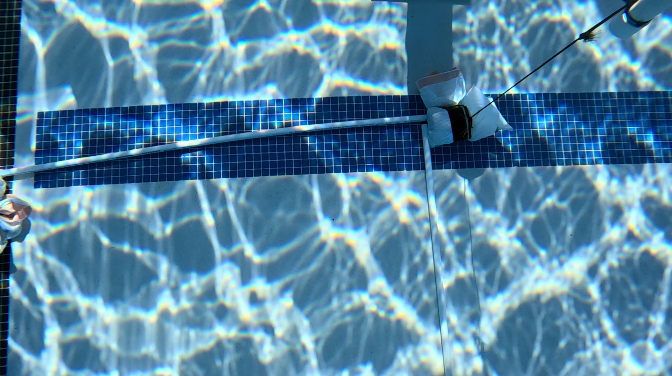sandbag: (427, 87, 504, 145)
